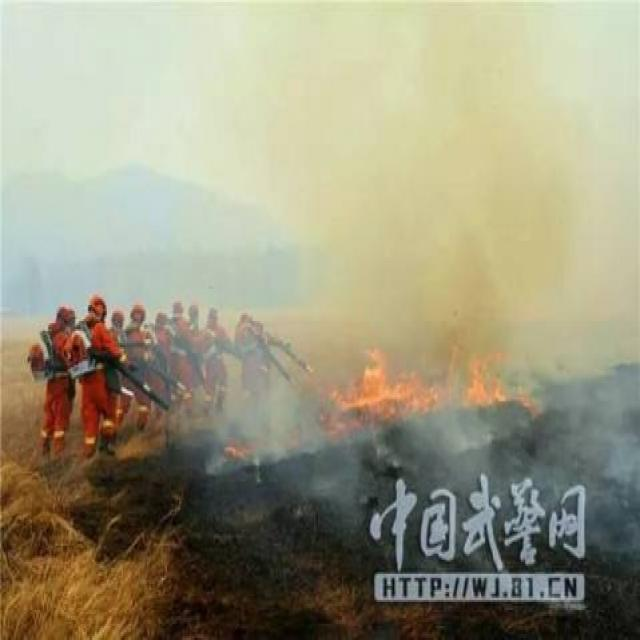fire: (328, 337, 534, 433)
